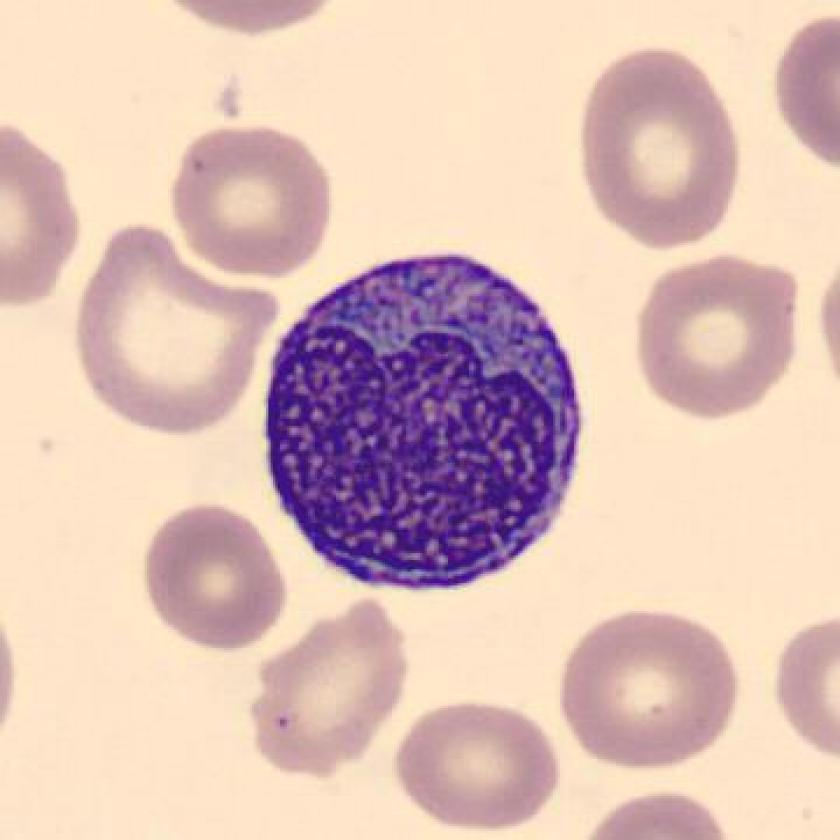monocyte: (258, 235, 610, 617)
